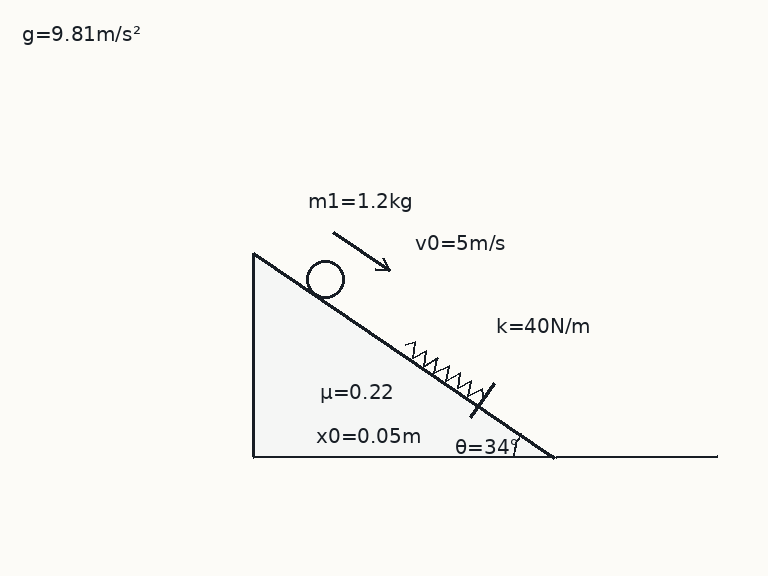ball: (304, 258, 346, 300)
ramp: (251, 251, 556, 458)
spring: (404, 341, 486, 400)
